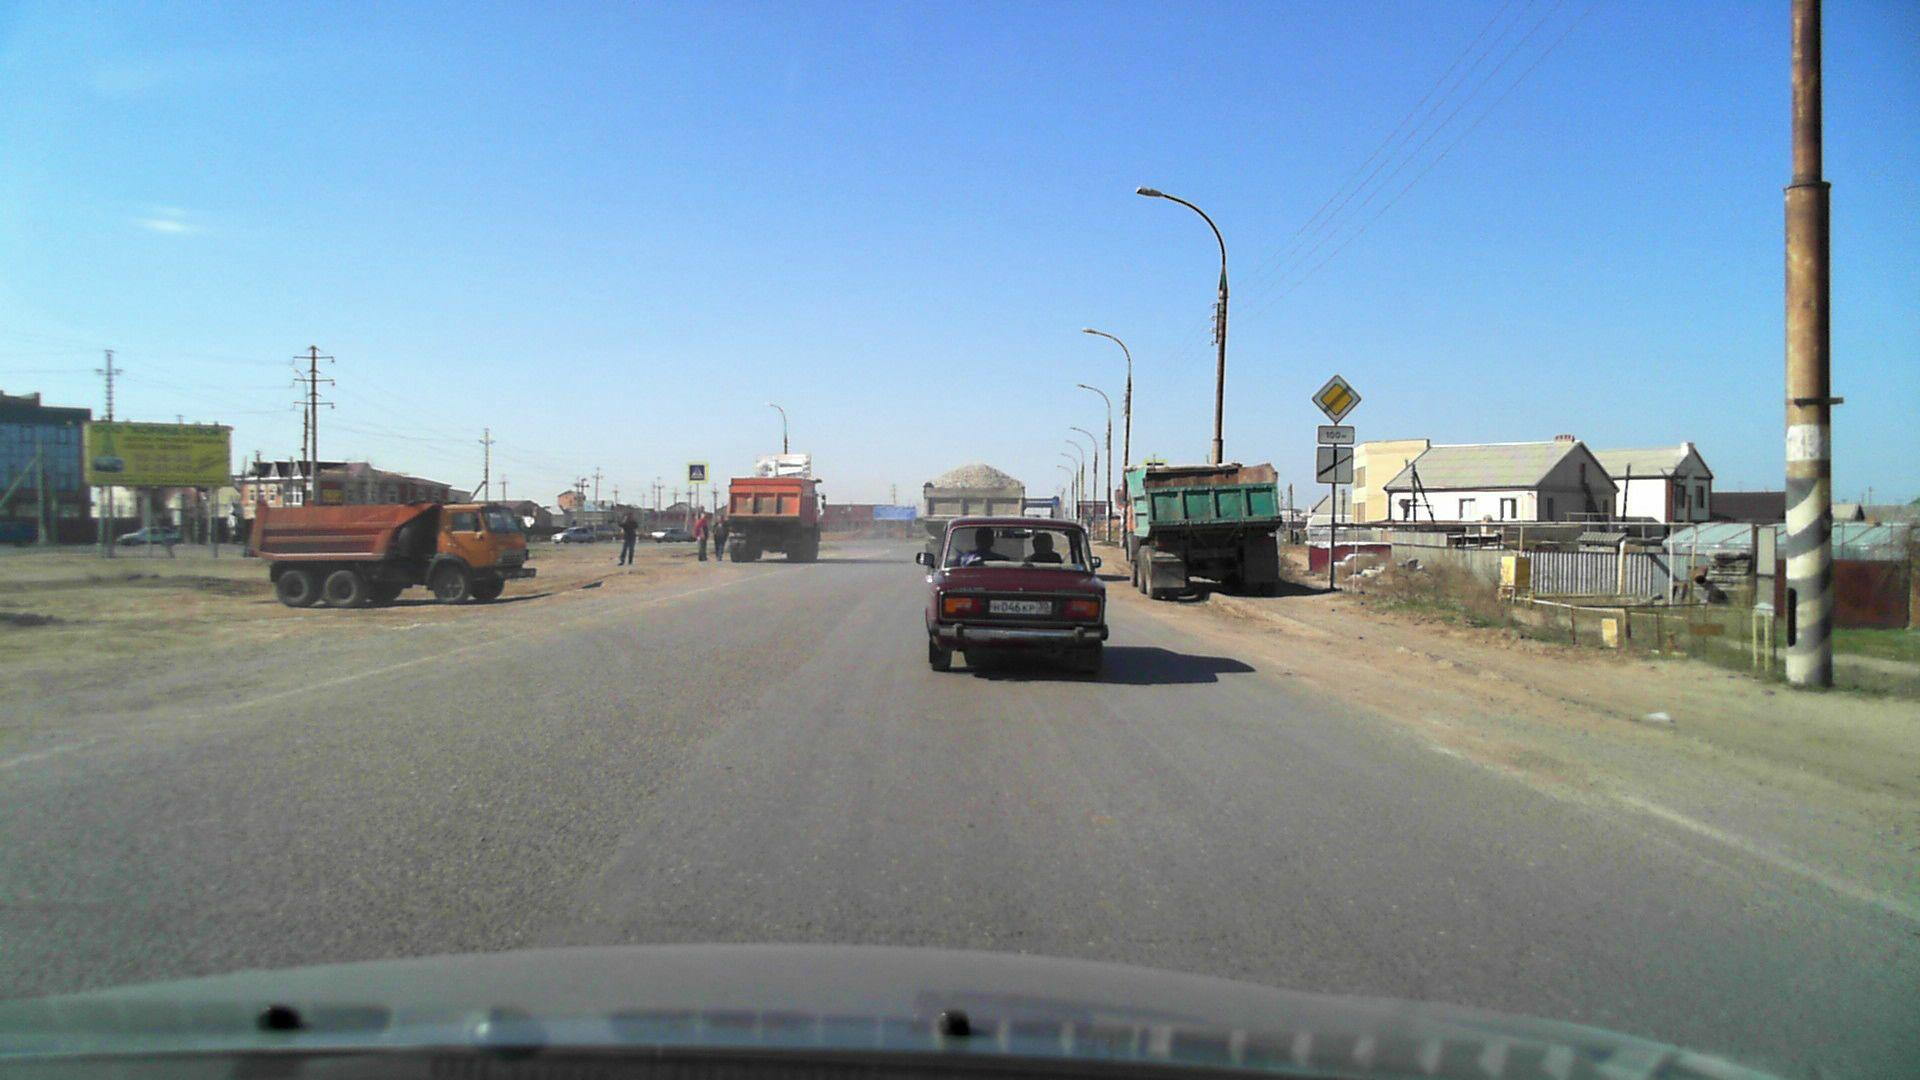2_2: (1312, 375, 1361, 425)
5_19_2: (688, 463, 707, 481)
8_13: (1315, 444, 1354, 487)
8_1_1: (1317, 426, 1357, 444)
